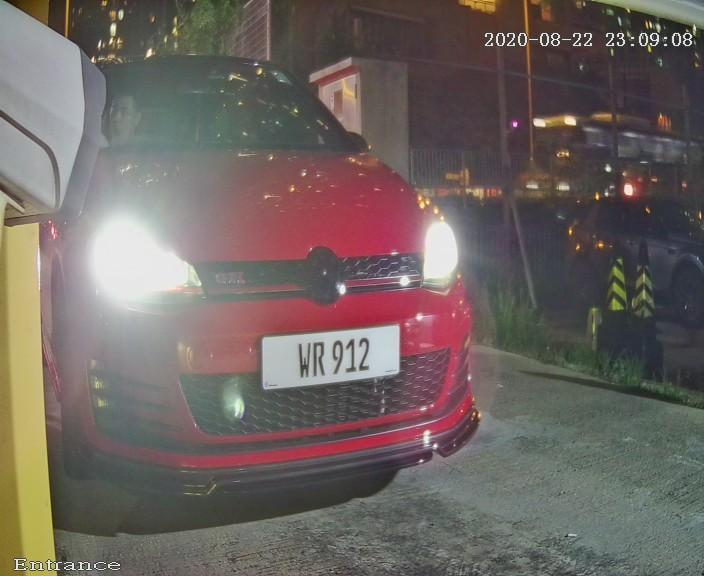Car: (7, 6, 525, 520)
License Plate: (221, 303, 413, 420)
